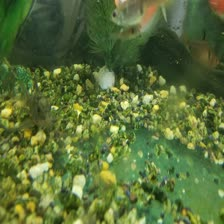Guppy: (108, 0, 161, 30)
Kiros: (2, 88, 68, 141)
Transparente: (184, 27, 219, 72)
